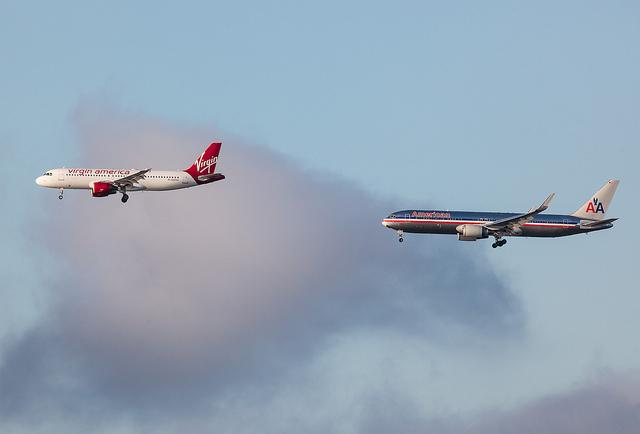airplane: (380, 177, 622, 249), (33, 141, 228, 204)
